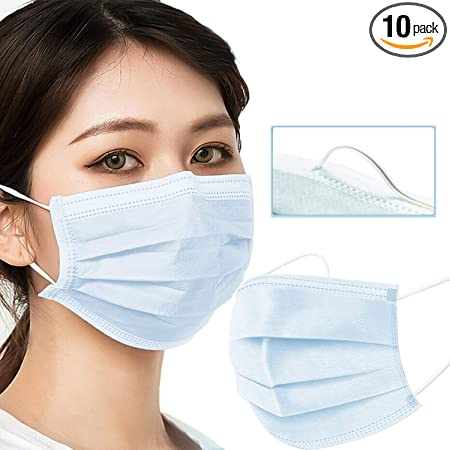mask: (42, 172, 256, 355), (236, 263, 450, 446)
person: (1, 1, 258, 450)
